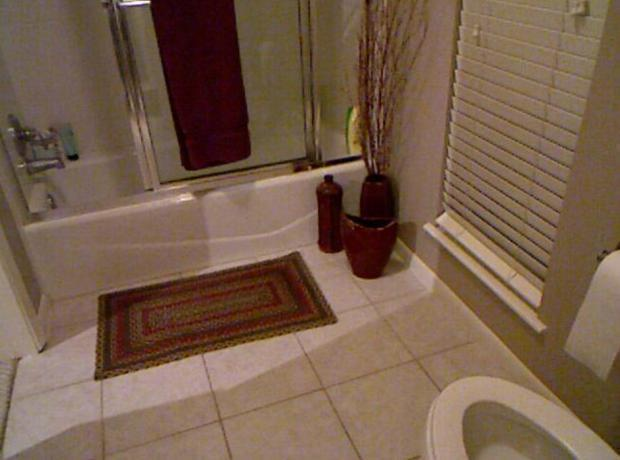Sanitario: (416, 371, 616, 457)
